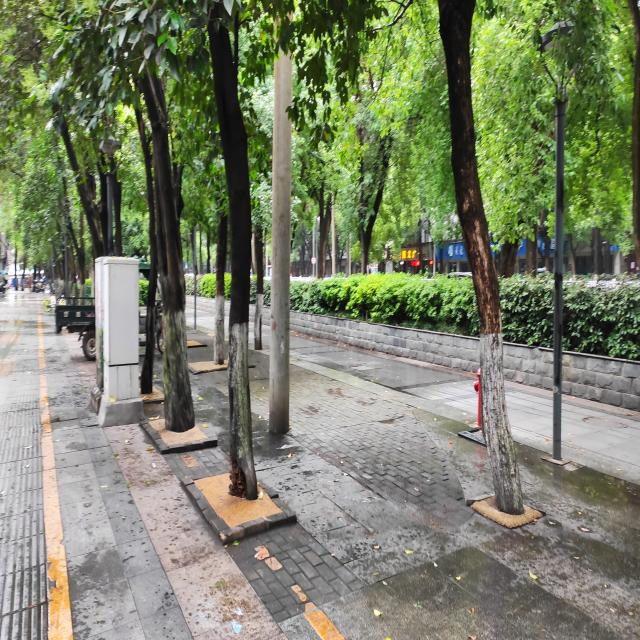bicycle: (42, 290, 66, 312)
fire_hydrant: (472, 366, 483, 426)
pole: (264, 5, 296, 438), (552, 96, 568, 458), (104, 171, 116, 255)
tricycle: (55, 262, 164, 360)
